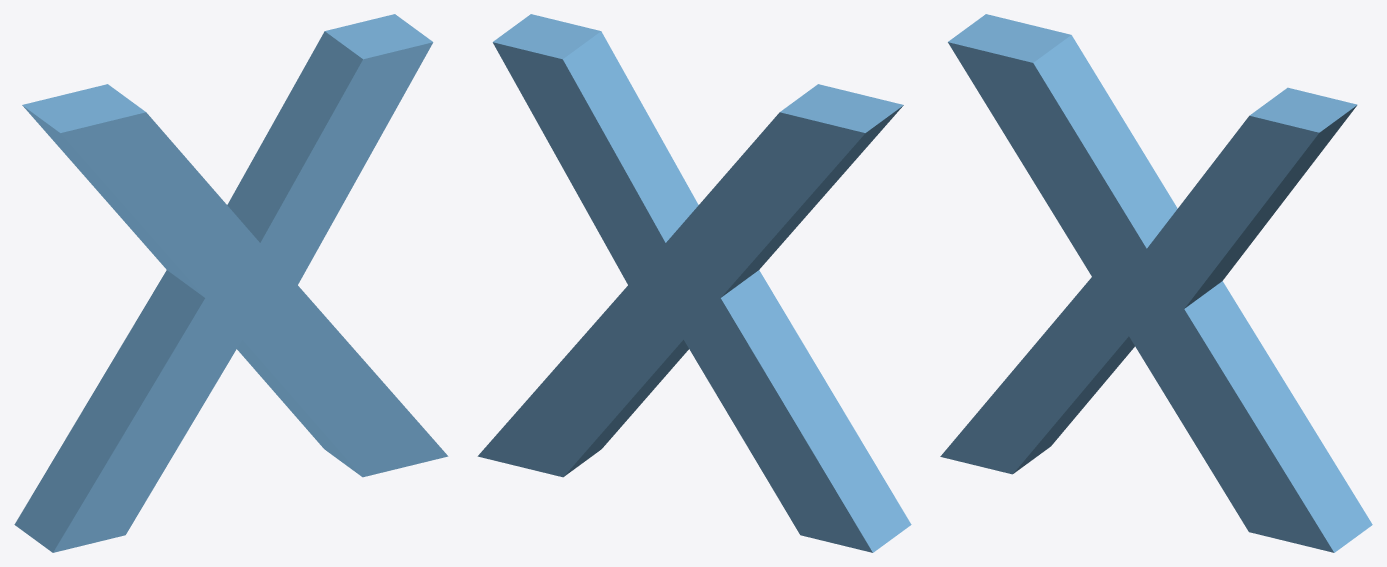
3 views of the same model, side by side, from view 1: azimuth 30°, elevation 25°; view 2: azimuth 150°, elevation 25°; view 3: azimuth 330°, elevation 25° (orthographic).
Parts seen in each view (by area): view 1: typeMesh2; view 2: typeMesh2; view 3: typeMesh2.
Boxes of the visible parts, x1=… form: typeMesh2: x1=14, y1=14, x2=448, y2=552; typeMesh2: x1=477, y1=14, x2=911, y2=552; typeMesh2: x1=940, y1=14, x2=1372, y2=552.
Bounding box in the file's own units: 8.9 × 8.98 × 1.5.
